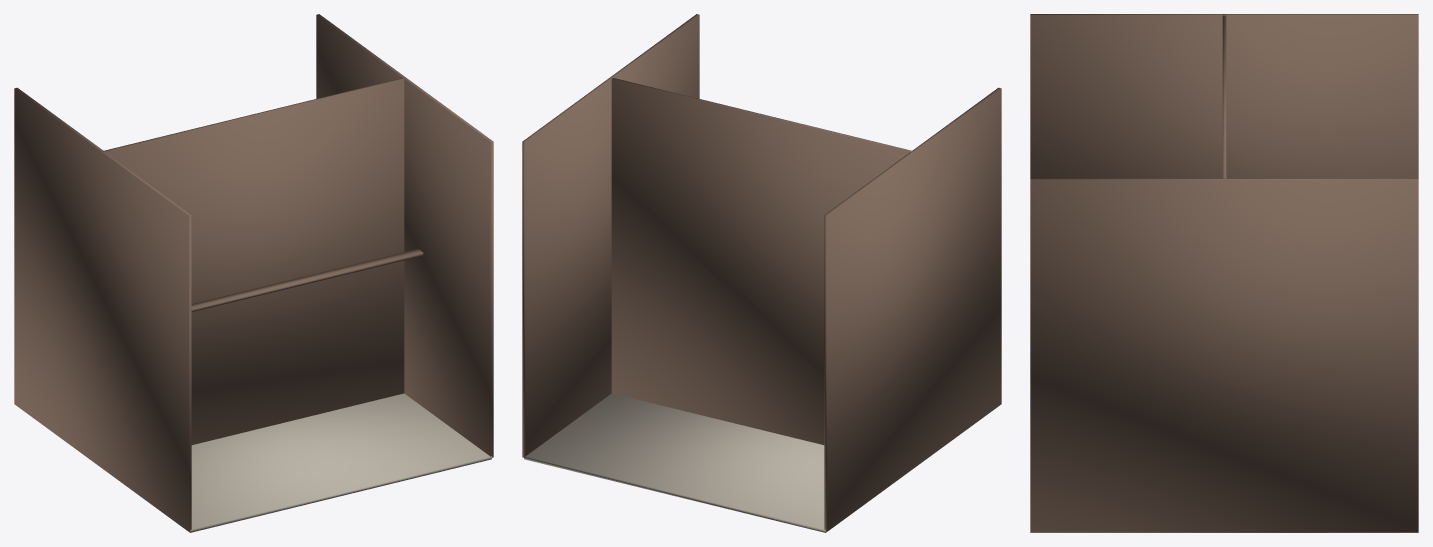
The model's file is set.fbx.
3 renders of one model, left to right at view 1: azimuth 30°, elevation 25°; view 2: azimuth 150°, elevation 25°; view 3: azimuth 270°, elevation 25°, orthographic. The views are drawn at different scales.
Visible parts, largest first — view 1: backWall, leftWall, rightWall, floor, perch; view 2: backWall, leftWall, rightWall, floor; view 3: rightWall, leftWall, backWall.
Part boxes in pixels (box(x1,y1,x2,y2)): backWall: box(102, 78, 405, 444); leftWall: box(14, 87, 191, 531); rightWall: box(316, 14, 493, 457); floor: box(16, 393, 491, 532); perch: box(191, 249, 423, 312); backWall: box(611, 78, 913, 444); leftWall: box(824, 87, 1001, 531); rightWall: box(522, 14, 699, 457); floor: box(524, 393, 999, 532); rightWall: box(1030, 178, 1418, 531); leftWall: box(1030, 14, 1418, 178); backWall: box(1222, 14, 1226, 178).
Bounding box in the file's own units: 808 × 804 × 800.
